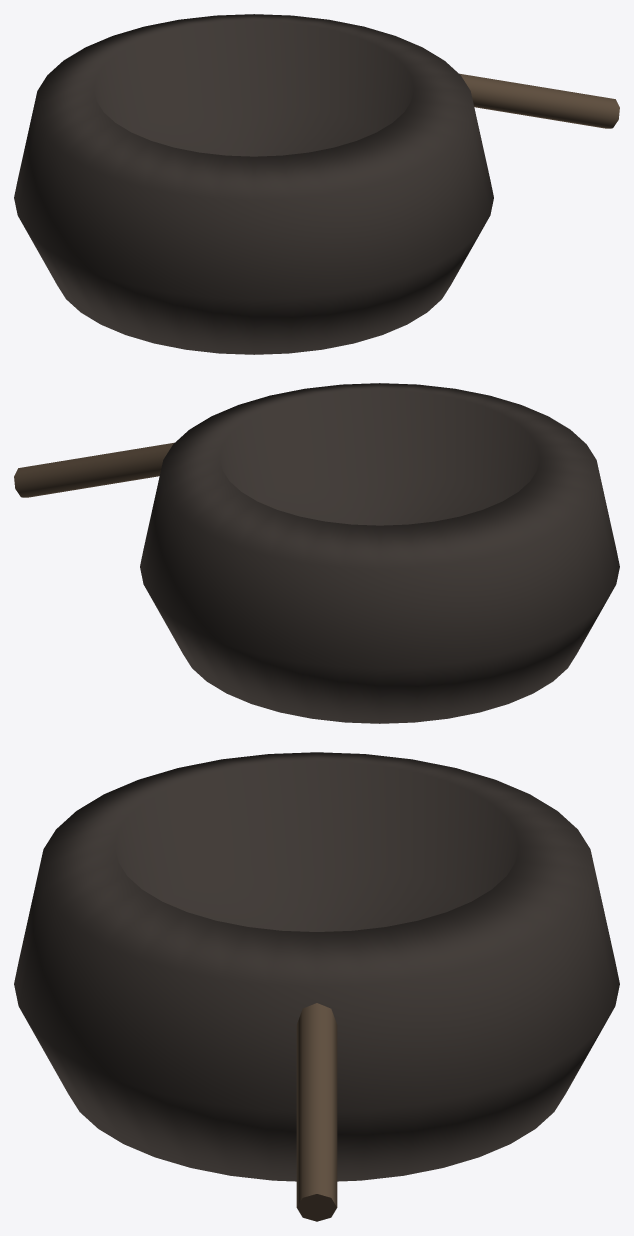
File: huaiyang_prop_ink_stone.glb
3 views of the same model, one above another, from view 1: azimuth 30°, elevation 25°; view 2: azimuth 150°, elevation 25°; view 3: azimuth 270°, elevation 25° (orthographic). The views are drawn at different scales.
Bounding box in the file's own units: 0.1644 × 0.05 × 0.12.
